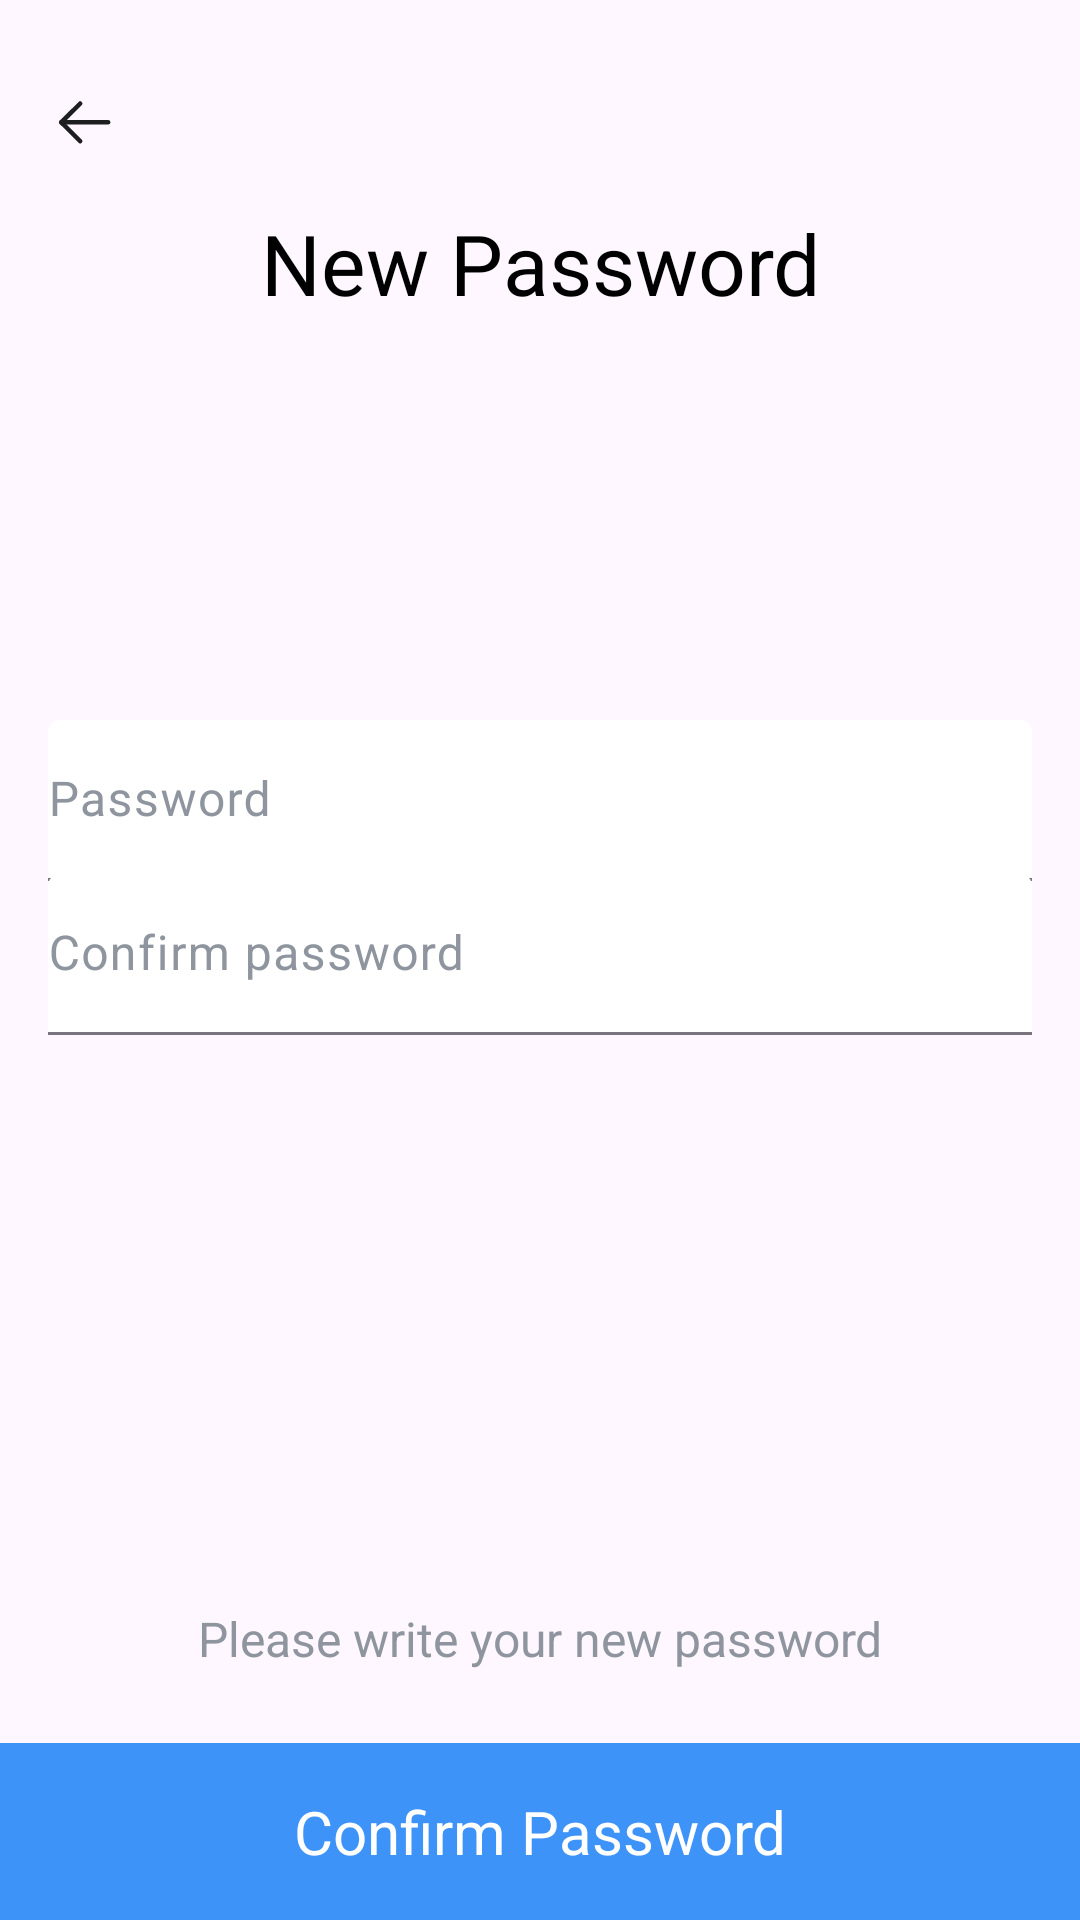

Named icons in this screenshot (1080px×1920px) and their centers, (x=x, y=y):
back: (x=85, y=122)
